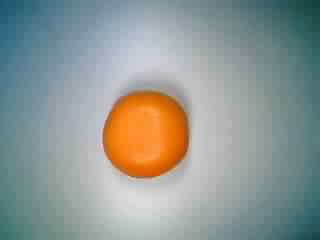orange: (96, 85, 191, 187)
